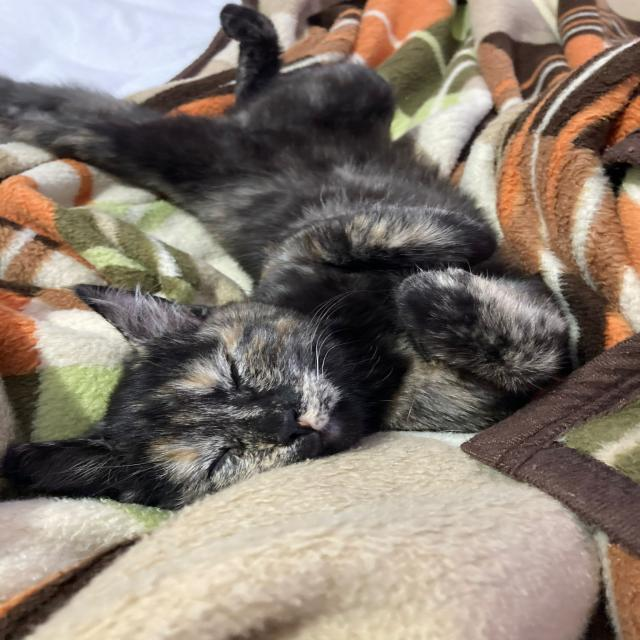authorized: (1, 3, 580, 510)
